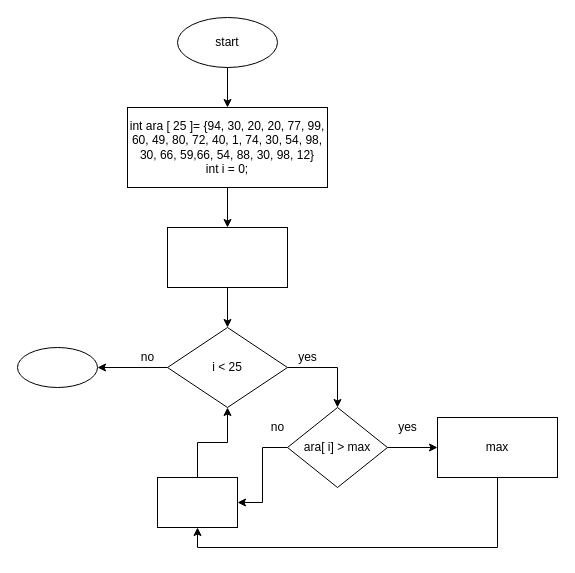
This 575x573 diagram has some shape labels left out. Each missing label, with the centre of its shape:
"end" goes at (57,367).
"i++" goes at (197,502).
"max = ara[0]" goes at (227,257).
